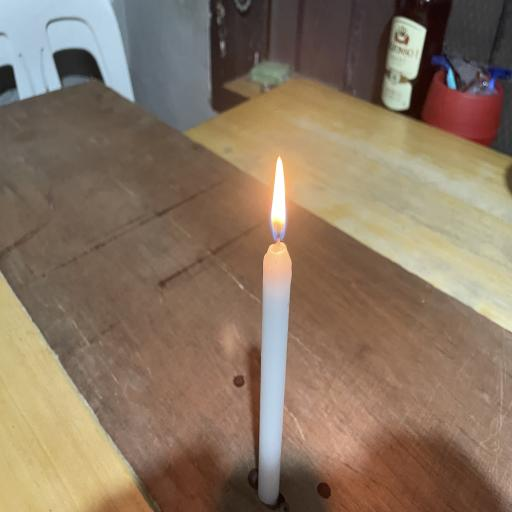fire: (264, 150, 293, 252)
